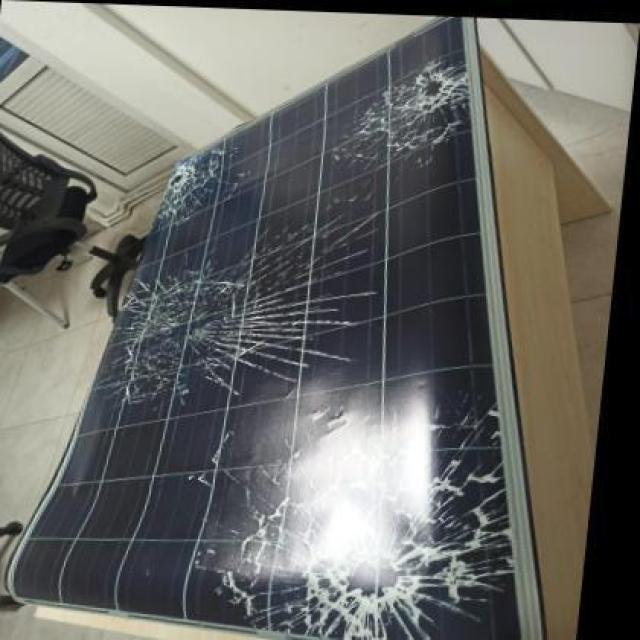cracked: (57, 32, 524, 640)
